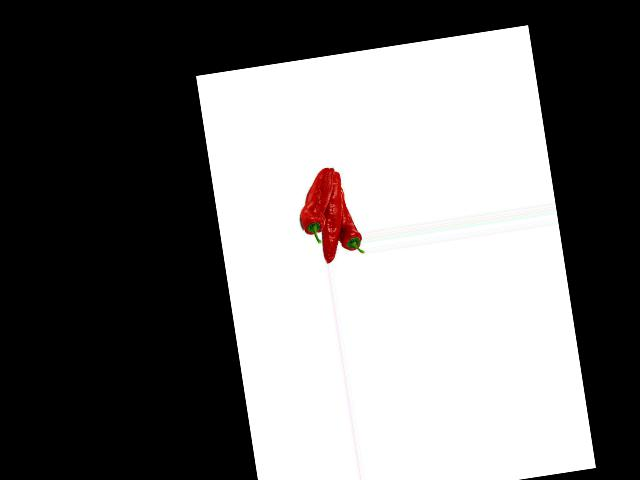bell_pepper: (290, 167, 336, 248)
